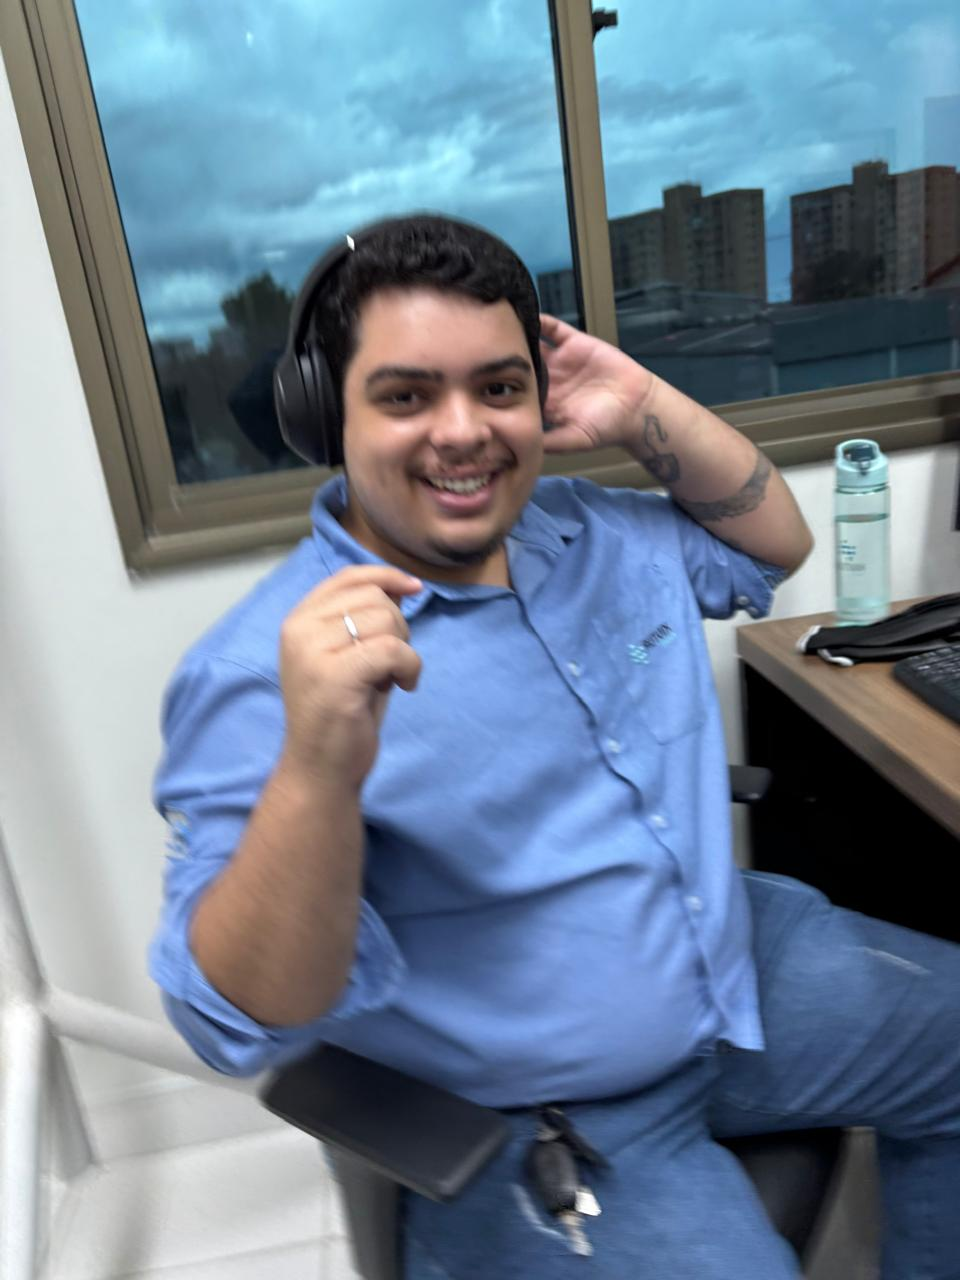no-gloves: (266, 564, 424, 778), (520, 304, 646, 464)
